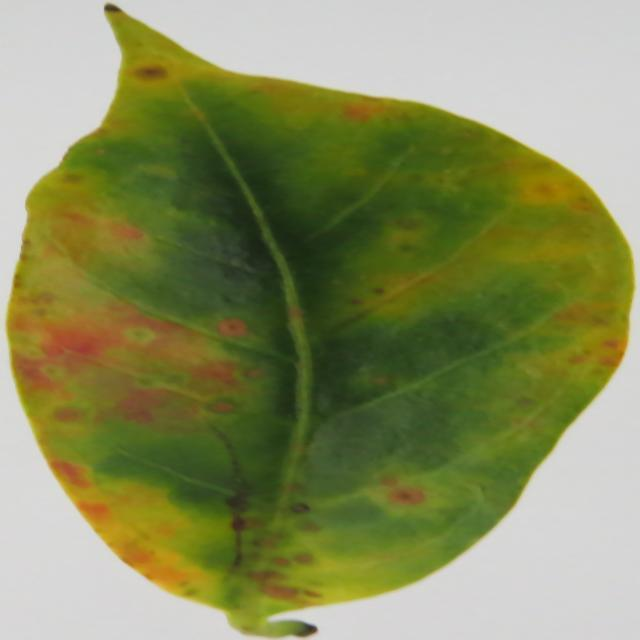DeficienciaNutricional-Fosforo: (8, 5, 632, 636)
